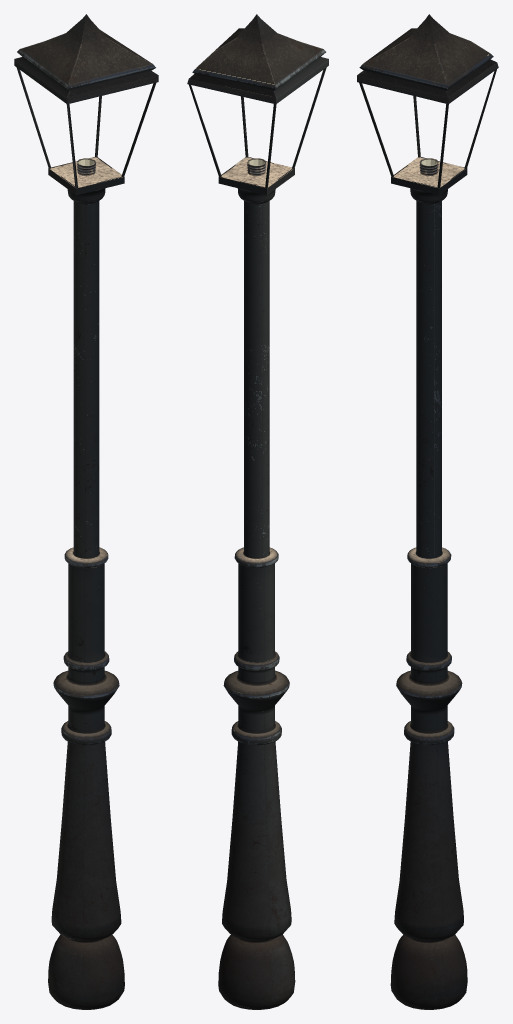
The model's file is FinalLamp.glb.
3 renders of one model, left to right at view 1: azimuth 30°, elevation 25°; view 2: azimuth 150°, elevation 25°; view 3: azimuth 330°, elevation 25°, orthographic.
Visible parts, largest first — view 1: Object_2; view 2: Object_2; view 3: Object_2.
Part boxes in pixels (x1,y1,x2,y2): Object_2: (14,14,158,1009); Object_2: (187,14,328,1009); Object_2: (357,14,498,1009).
Bounding box in the file's own units: 1.09 × 11.22 × 1.09.
1 material, 1 textured.
